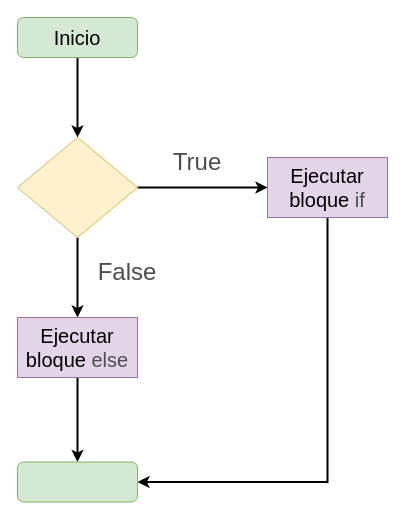
This 405x520 diagram has some shape labels left out. Here are the shapes that lost their labels. From the top down, the box of each, then its label:
(16, 136, 138, 238): Condición
(16, 461, 138, 502): Fin
